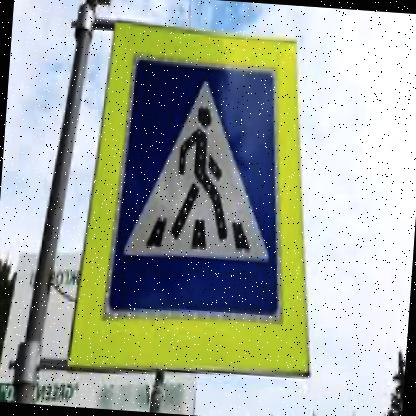crosswalk: (106, 50, 301, 318)
